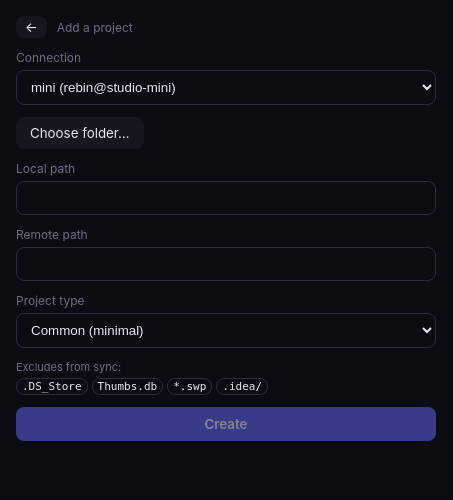
Test: AddProject › defaults the project-type dropdown to the detected type and previews its excludes
This screenshot has width=453, height=500.
Click the button with test id "pick-folder" at (80, 133), box [16, 117, 144, 149]
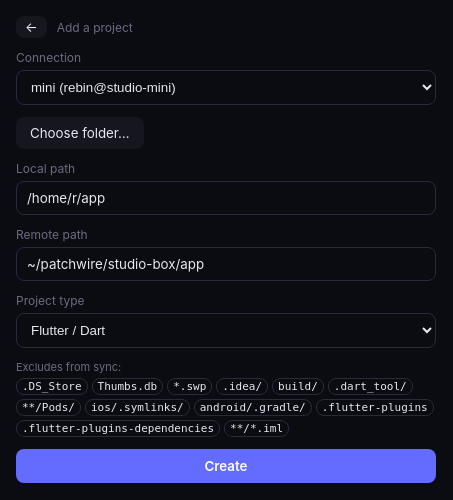
Expected: the dropdown with test id "project-type" shows "Flutter / Dart", [16, 313, 436, 348]
Expected: the element with test id "exclude-preview" shows ".dart_tool/", [334, 380, 407, 393]
